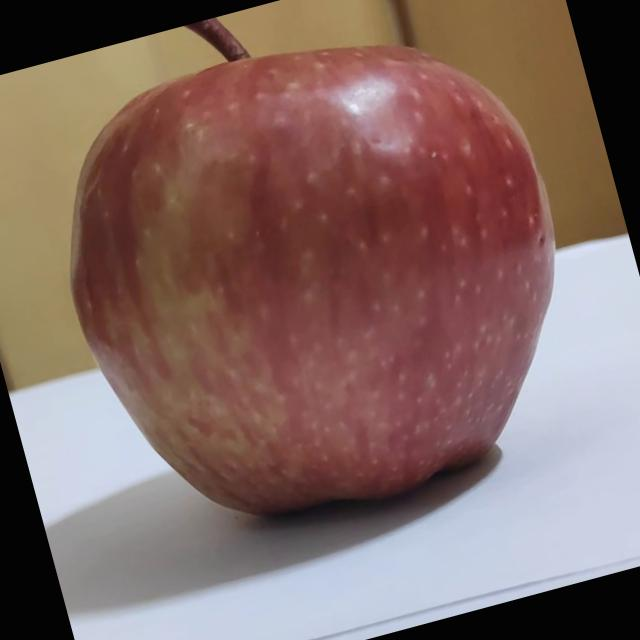apple: (0, 0, 608, 574)
